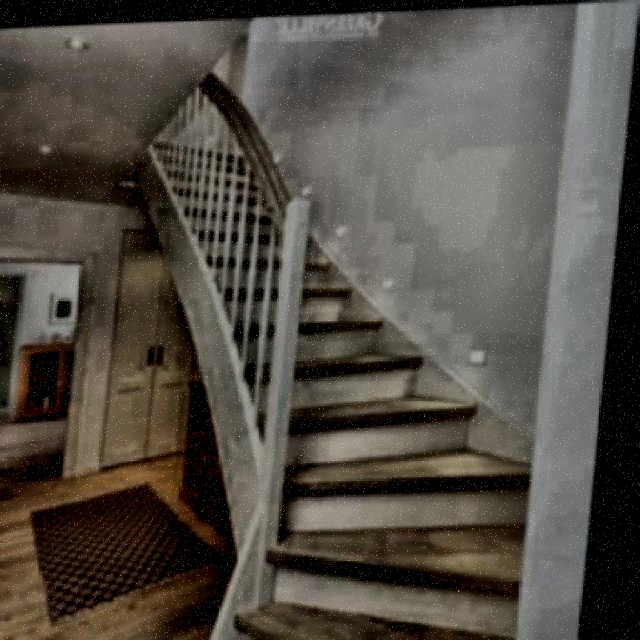stair: (172, 139, 588, 565)
